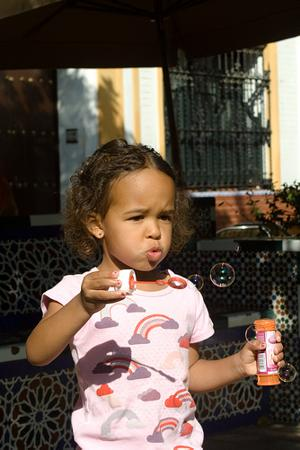person: (24, 137, 287, 446)
